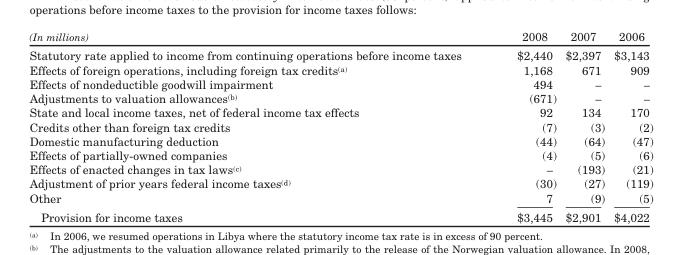table: (28, 28, 652, 223)
table column: (28, 28, 488, 223), (488, 28, 560, 223), (560, 28, 608, 223), (608, 28, 652, 223)
table column header: (28, 28, 652, 45)
table row: (28, 28, 652, 45), (28, 45, 652, 62), (28, 190, 652, 207), (28, 207, 652, 223), (28, 104, 652, 119), (28, 161, 652, 176), (28, 62, 652, 76), (28, 76, 652, 90), (28, 90, 652, 104), (28, 119, 652, 133), (28, 133, 652, 147), (28, 147, 652, 161), (28, 176, 652, 190)
